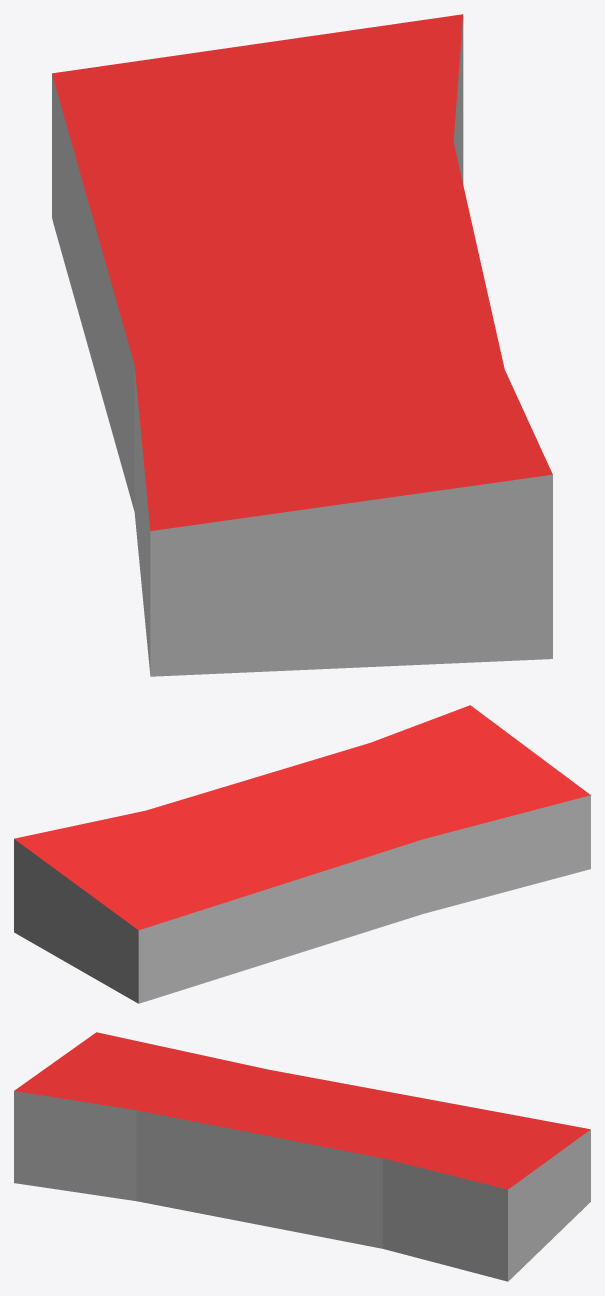
File: DEBY_LOD2_4908134.dae
The picture shows the model from 3 angles, top to bottom: view 1: azimuth 30°, elevation 25°; view 2: azimuth 150°, elevation 25°; view 3: azimuth 270°, elevation 25°; orthographic projection. The views are drawn at different scales.
Bounding box in the file's own units: 11.41 × 15.74 × 2.78.
